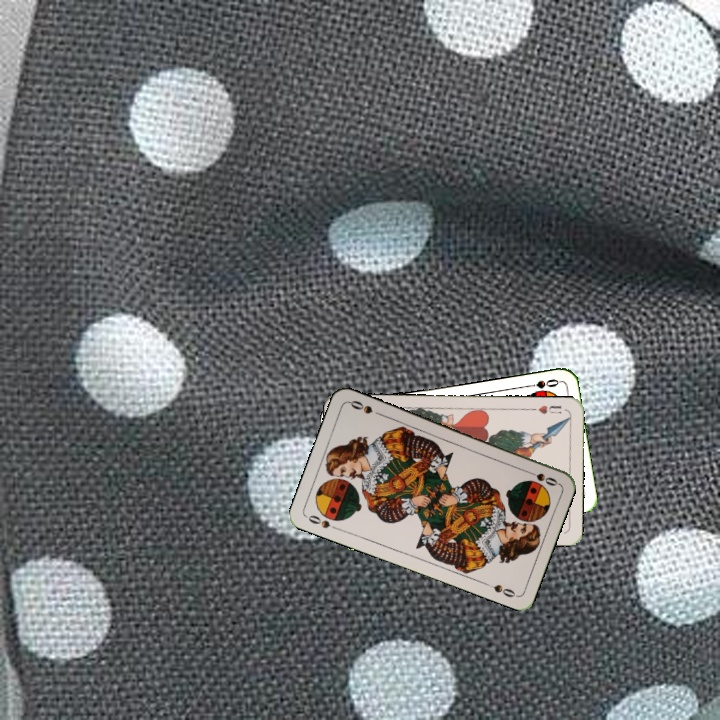HU: (527, 401, 564, 416)
SO: (521, 466, 560, 489), (304, 511, 342, 533), (521, 375, 562, 391)
